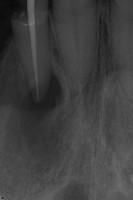Furcation Involvement: (18, 72, 80, 174)
